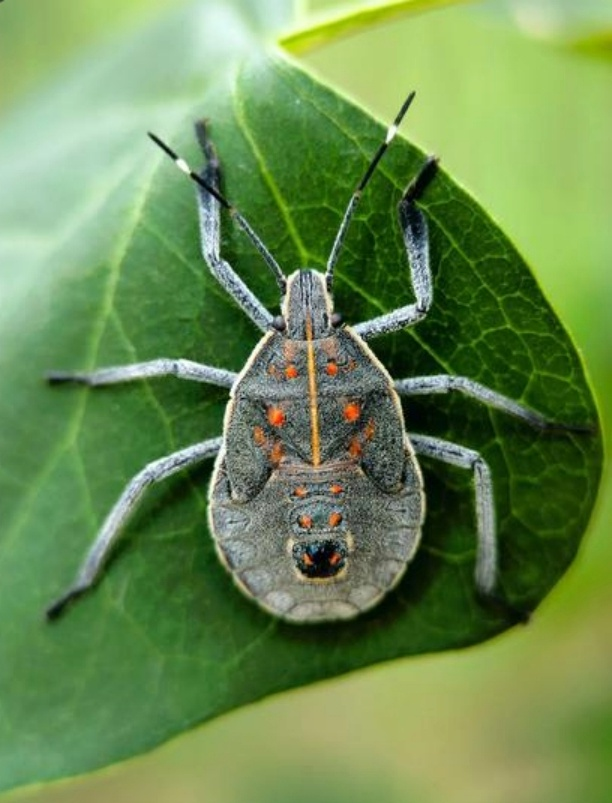Stink_Bug: (55, 145, 491, 651)
